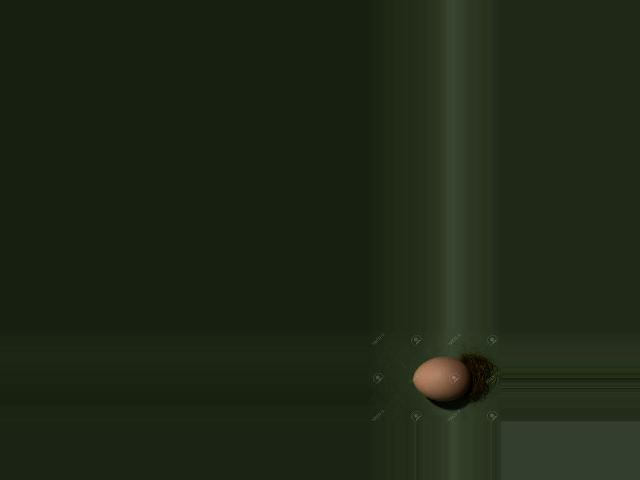egg: (412, 357, 470, 401)
